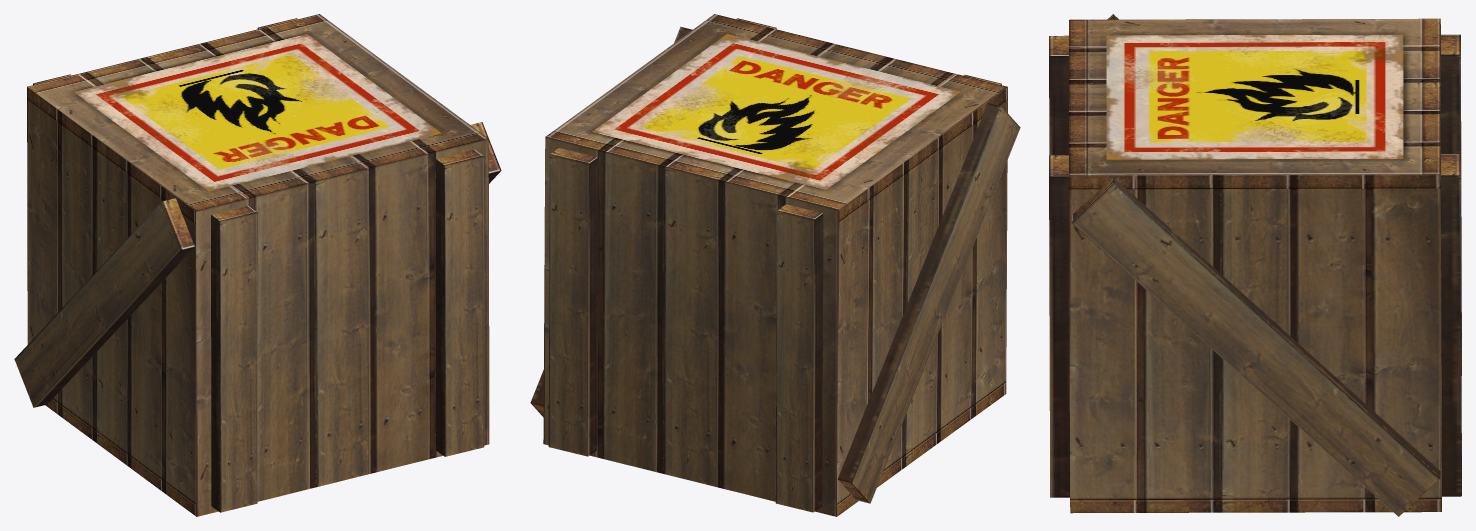
3 views of the same model, side by side, from view 1: azimuth 30°, elevation 25°; view 2: azimuth 150°, elevation 25°; view 3: azimuth 270°, elevation 25° (orthographic). The views are drawn at different scales.
Visible parts, largest first — view 1: polygon0; view 2: polygon0; view 3: polygon0.
Part boxes in pixels (left/top/right/bottom): polygon0: left=14, top=14, right=501, bottom=516; polygon0: left=530, top=14, right=1020, bottom=516; polygon0: left=1049, top=14, right=1461, bottom=516.
Size of the model in its own units: 0.7928 by 0.7267 by 0.8013.
Materials: 1 (1 with a texture image).
